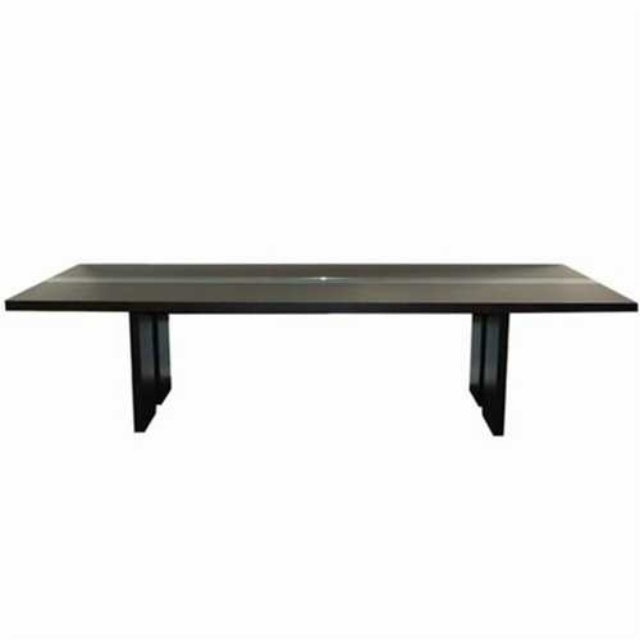obstacle: (5, 264, 636, 434)
